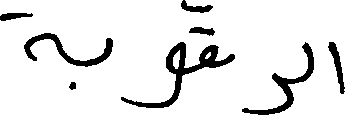ا: (328, 40, 342, 95)
ب: (68, 36, 112, 90)
ة: (0, 10, 63, 60)
ر: (242, 71, 294, 113)
ق: (189, 2, 217, 69)
ل: (302, 40, 314, 82)
و: (122, 40, 185, 108)
